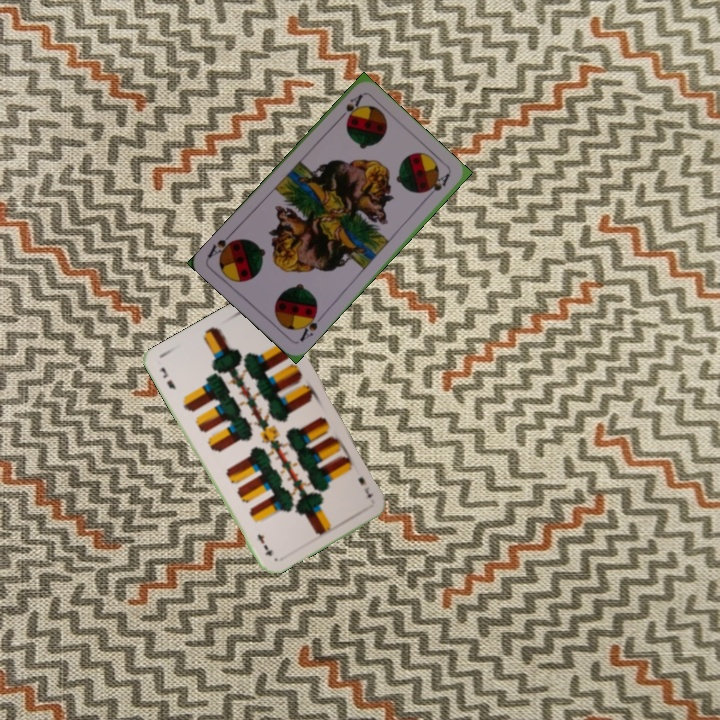E7: (155, 363, 178, 392), (354, 473, 376, 500)
SA: (295, 307, 326, 344), (334, 90, 365, 124)
